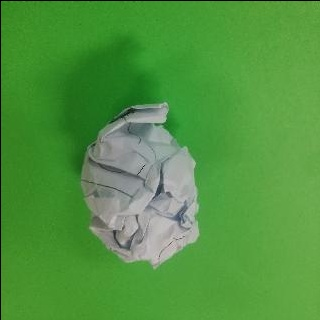8/可回收垃圾/纸: (80, 103, 200, 270)
